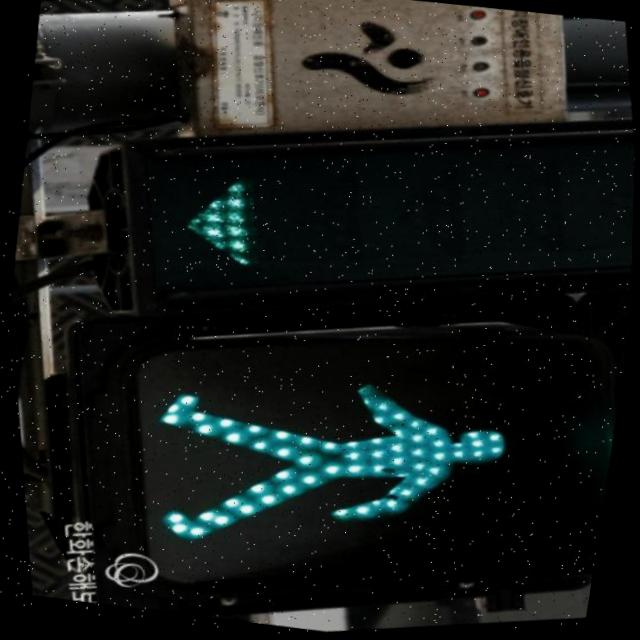green_light: (110, 316, 543, 606)
